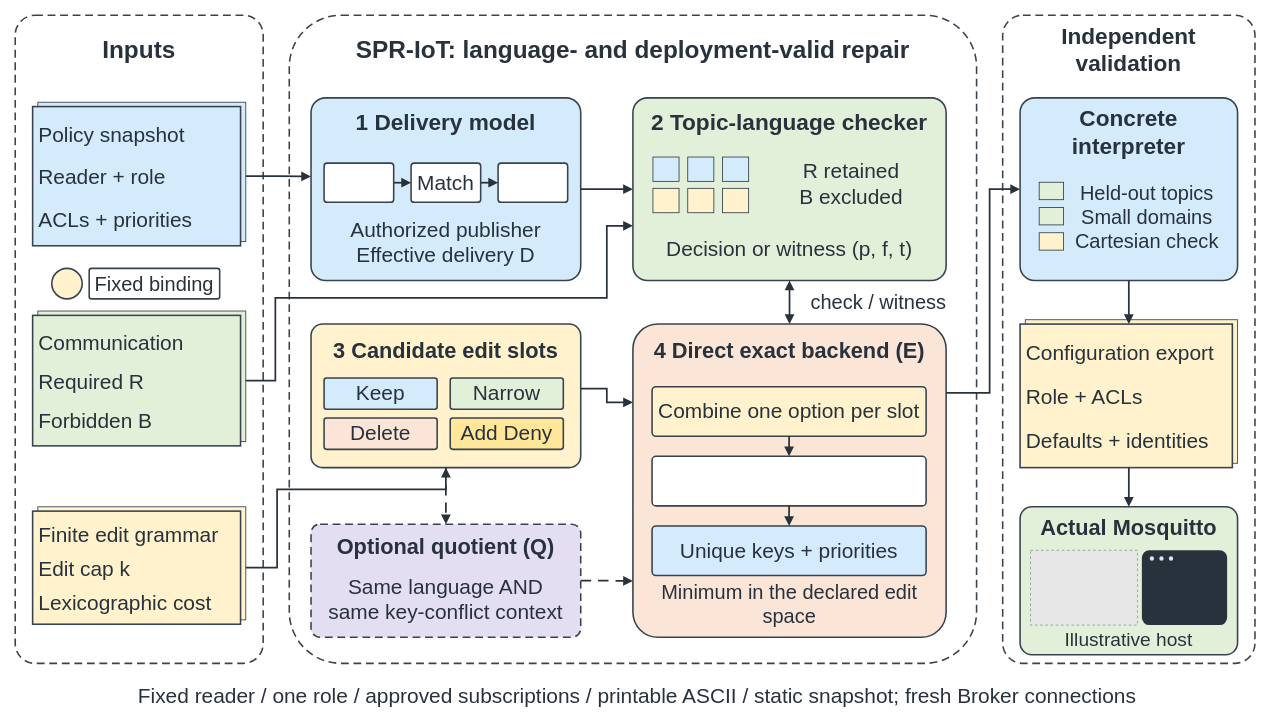
Image size: 1271x728. Some labels were removed from this diagram. Grey dashed boxes stand in for pictures. Here are the shapes that lost their labels. From the top down, the centre of each, then its label:
point (358, 182): SUB
point (532, 182): RECV
point (788, 480): Order by edits, pattern cost
point (1184, 587): 2.1.2 running
